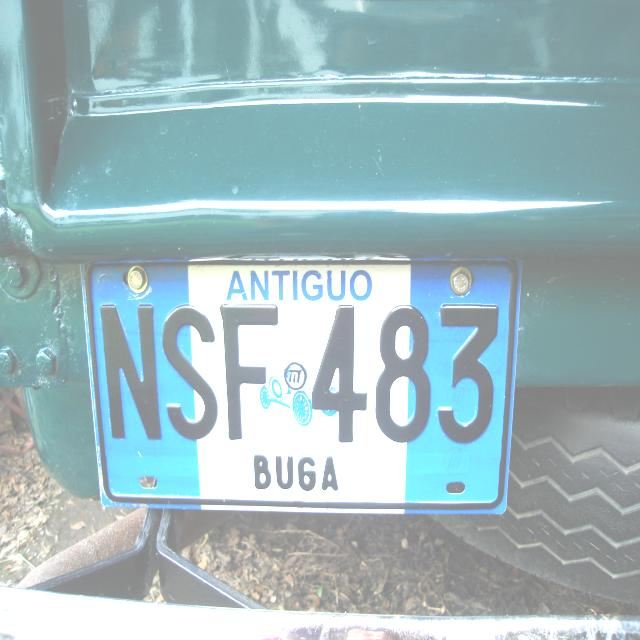placa: (68, 240, 524, 526)
